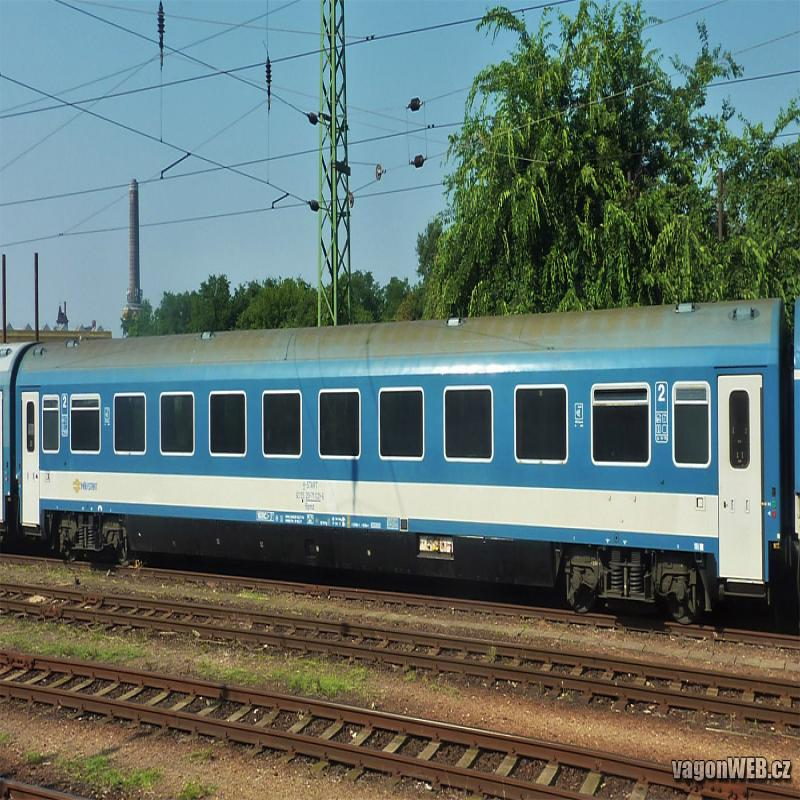train: (16, 301, 790, 638)
